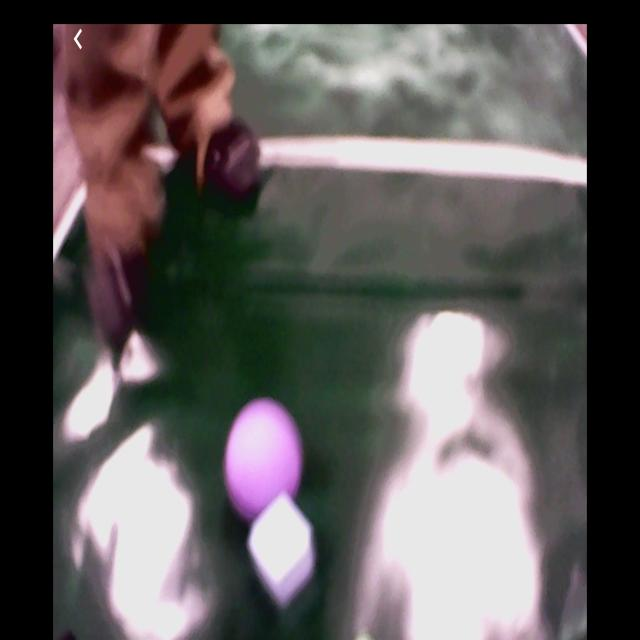ball: (226, 400, 303, 517)
